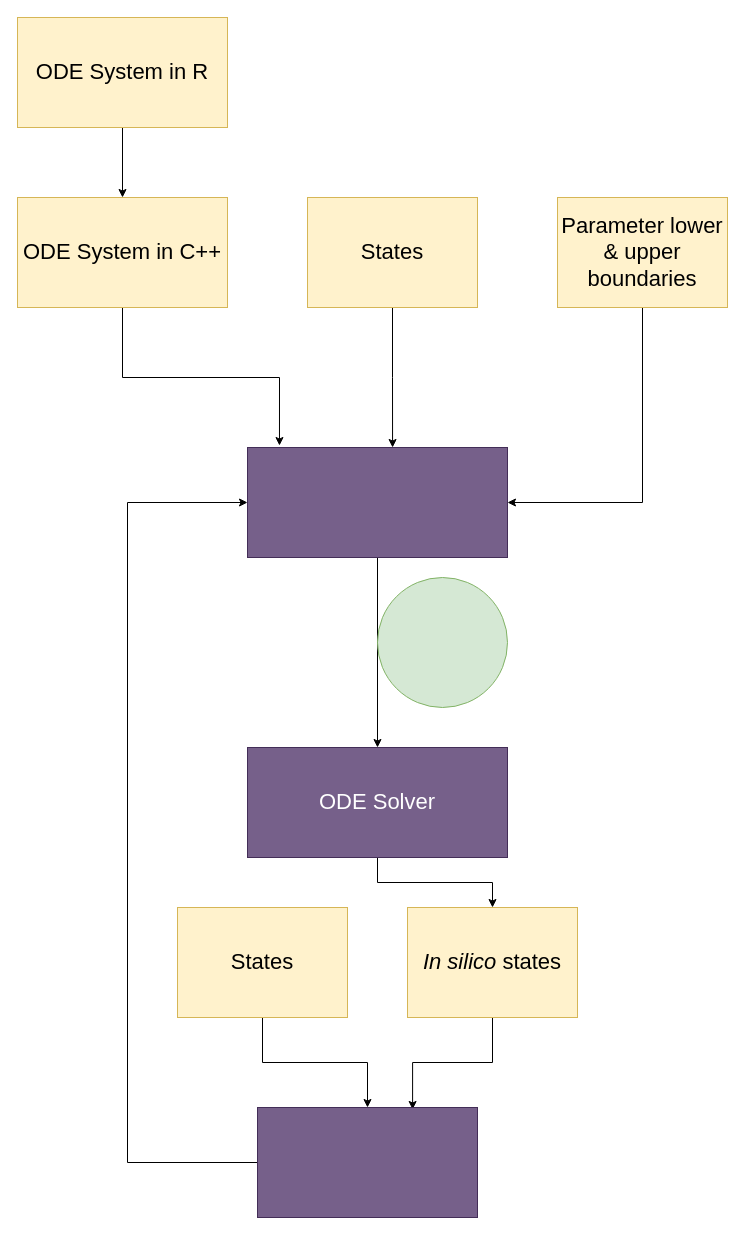
Some shapes in this 745 by 1235 pixel diagram are drawn without their labels. The shapes that lost their labels are listed below. From the top down, each one's centre as x and y in pixels, then its label:
the point at 377,502: Particle Swarm Optimizer
the point at 442,642: Calls ODE solver with one parameter set
the point at 367,1162: Error calculation
